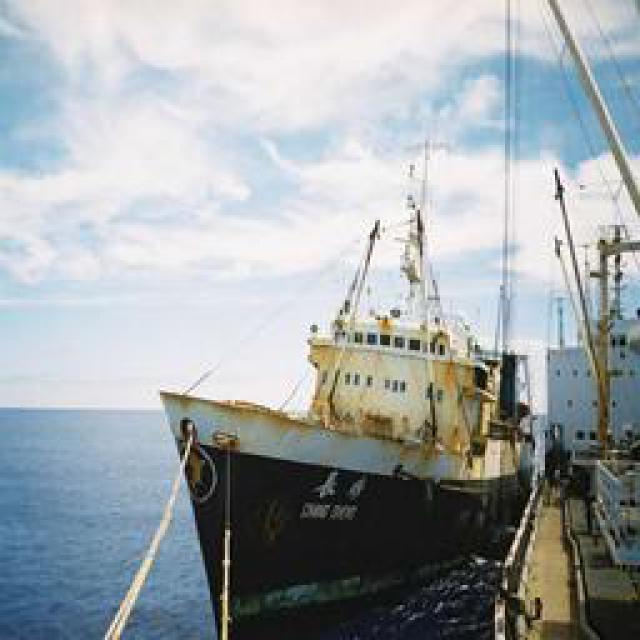Ship: (166, 180, 536, 593)
